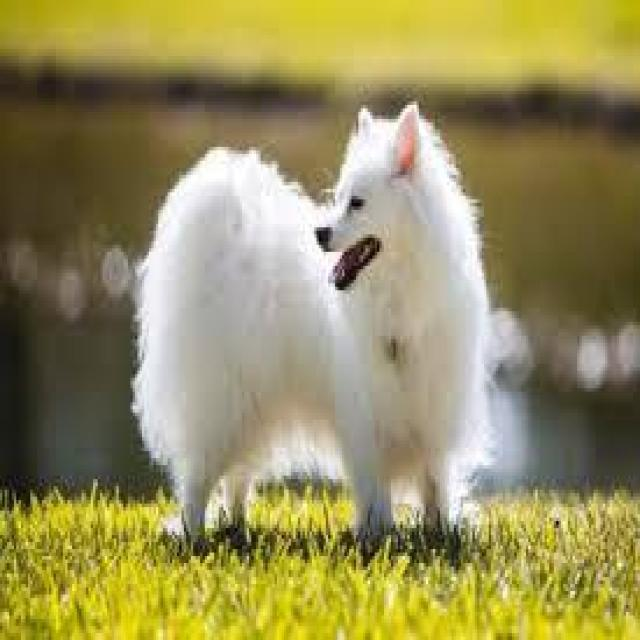Dog: (26, 22, 580, 640)
